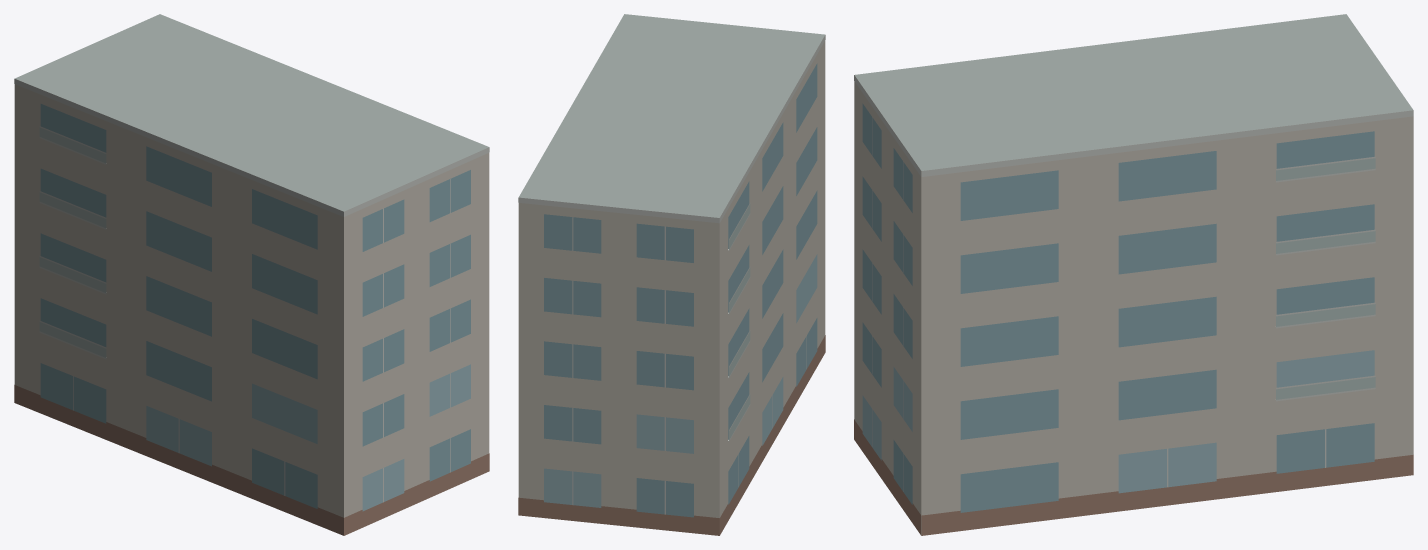
File: survey-upis-32966049.glb
3 renders of one model, left to right at view 1: azimuth 30°, elevation 25°; view 2: azimuth 150°, elevation 25°; view 3: azimuth 270°, elevation 25°, orthographic. The views are drawn at different scales.
Parts seen in each view (by area): view 1: survey-upis-32966049.tmp; view 2: survey-upis-32966049.tmp; view 3: survey-upis-32966049.tmp.
Boxes of the visible parts, <box> form: survey-upis-32966049.tmp: <box>14,14,489,535</box>; survey-upis-32966049.tmp: <box>518,14,825,535</box>; survey-upis-32966049.tmp: <box>854,14,1413,535</box>.
Bounding box in the file's own units: 13.59 × 14.7 × 20.44.
